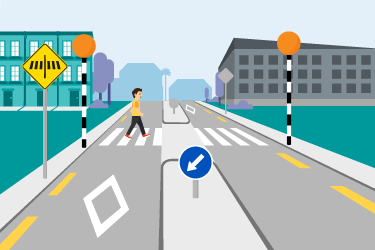CrossSign: (21, 43, 68, 89)
Crosswalk: (191, 123, 269, 147)
